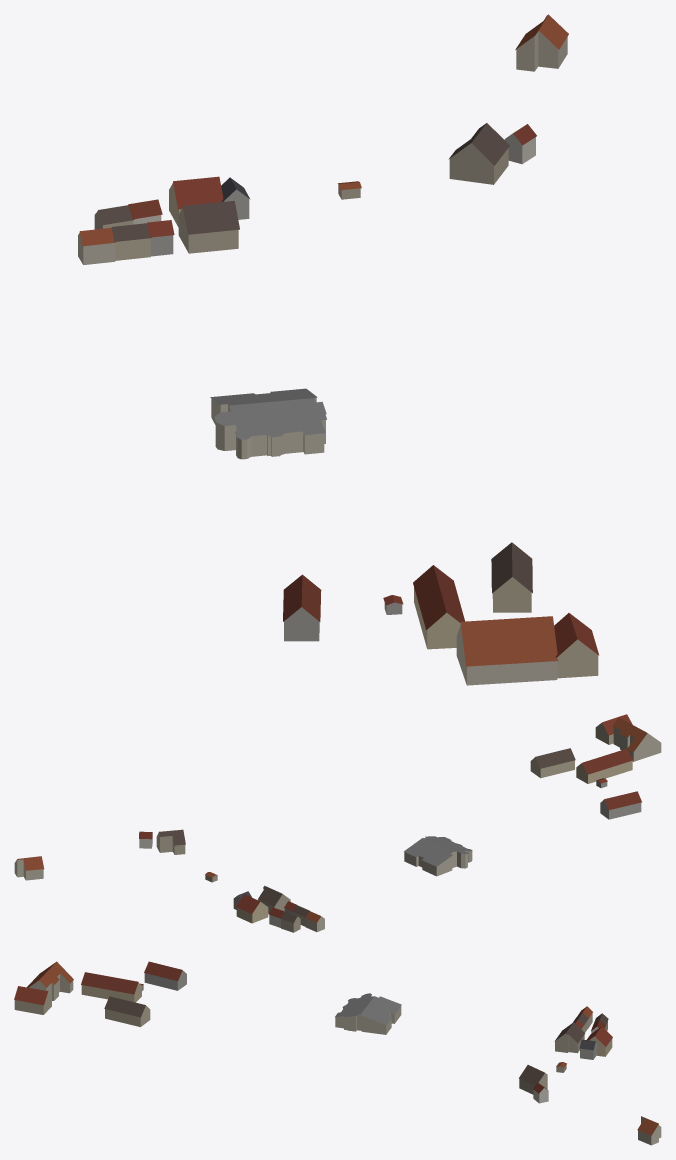
3 renders of one model, top to bottom at view 1: azimuth 30°, elevation 25°; view 2: azimuth 150°, elevation 25°; view 3: azimuth 270°, elevation 25°, orthographic. The views are drawn at different scales.
Visible parts, largest first — view 1: buildings; view 2: buildings; view 3: buildings.
Part boxes in pixels (x1,y1,x2,y2): buildings: [78, 14, 599, 685]; buildings: [14, 714, 661, 932]; buildings: [14, 961, 661, 1145].
Size of the model in its own units: 242 by 29.01 by 343.
